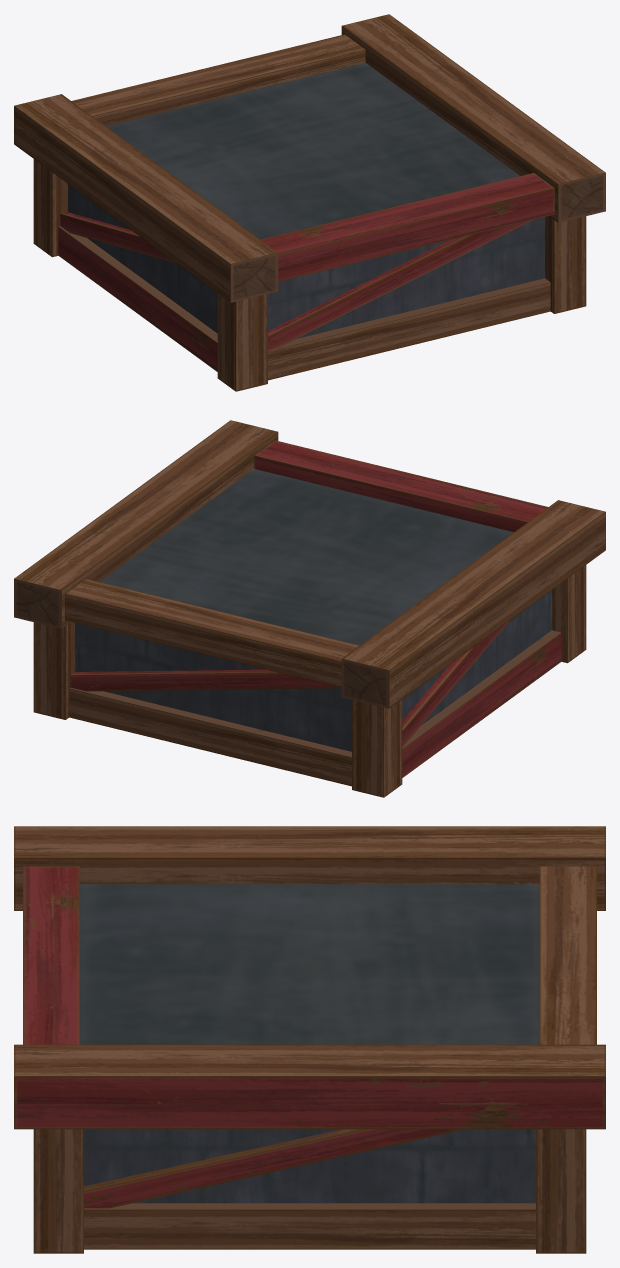
The model's file is TestTrimObj.fbx.
The picture shows the model from 3 angles, top to bottom: view 1: azimuth 30°, elevation 25°; view 2: azimuth 150°, elevation 25°; view 3: azimuth 270°, elevation 25°; orthographic projection. The views are drawn at different scales.
Parts seen in each view (by area): view 1: Cube; view 2: Cube; view 3: Cube.
Part boxes in pixels (left/top/right/bottom): Cube: left=14, top=14, right=605, bottom=391; Cube: left=14, top=420, right=605, bottom=797; Cube: left=14, top=826, right=605, bottom=1253.
Bounding box in the file's own units: 2.36 × 0.8157 × 2.36.
